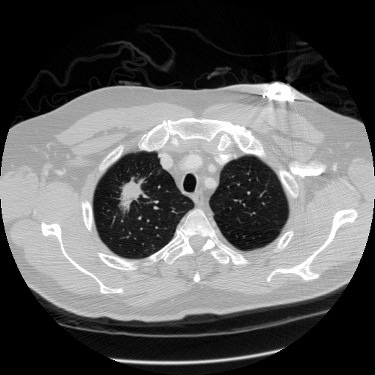nodule: (119, 183, 143, 207)
